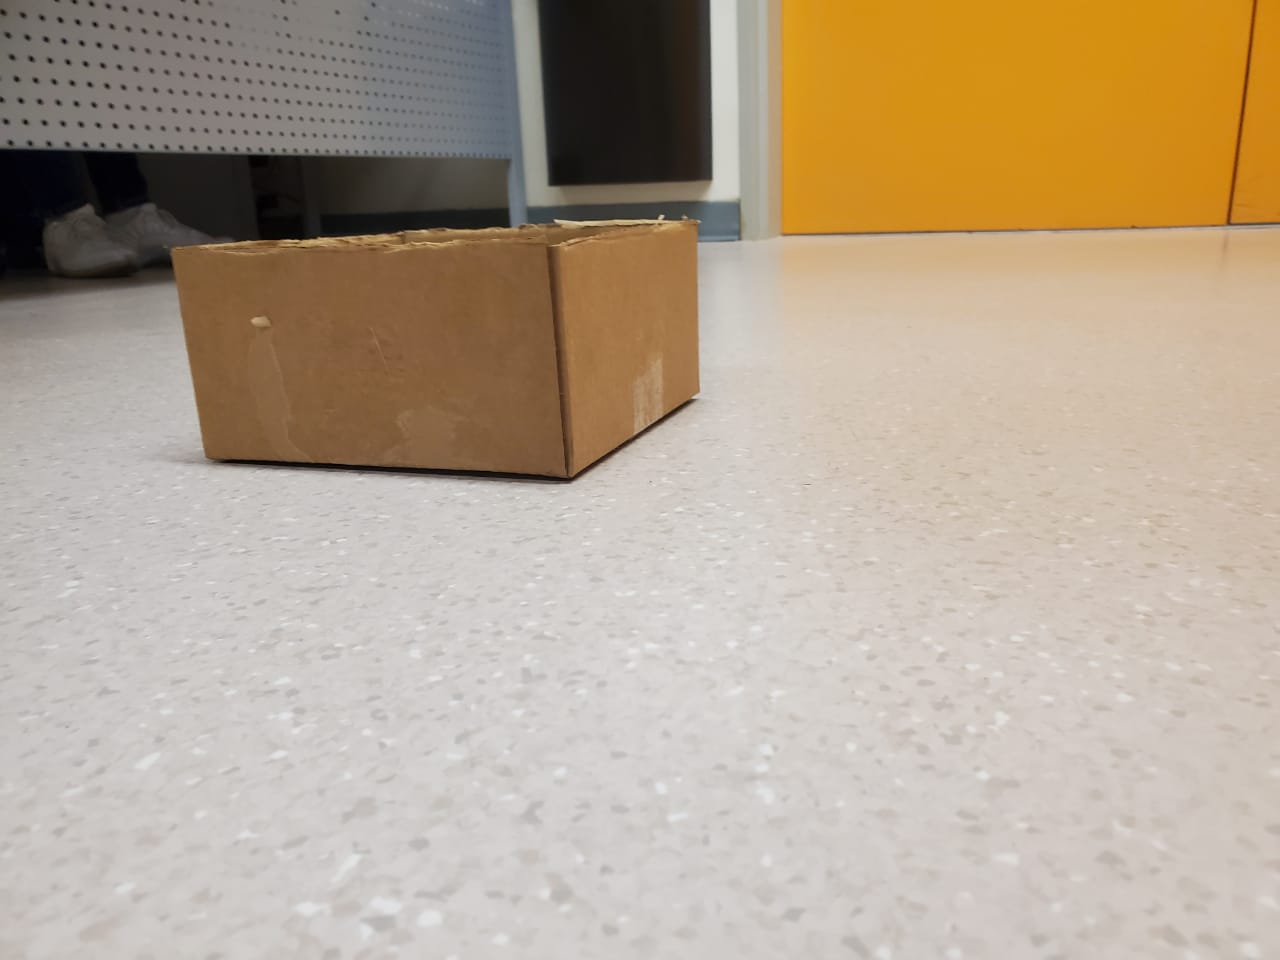CBox: (153, 212, 729, 483)
